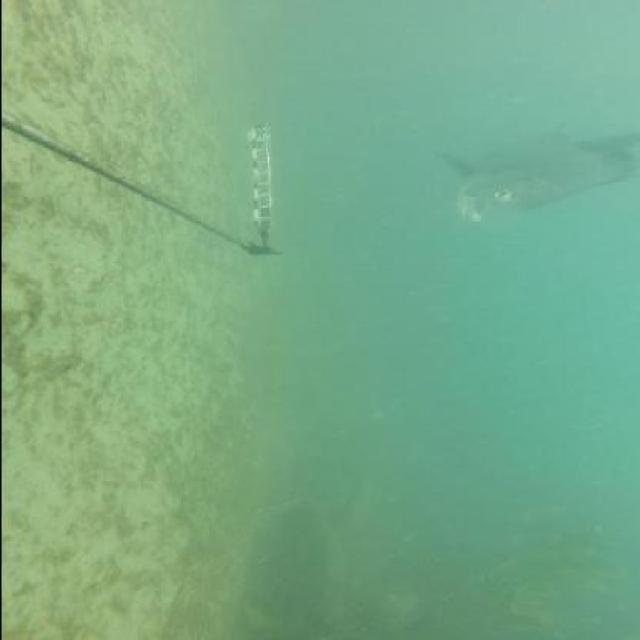acanthopagrus_palmaris: (437, 124, 640, 228)
